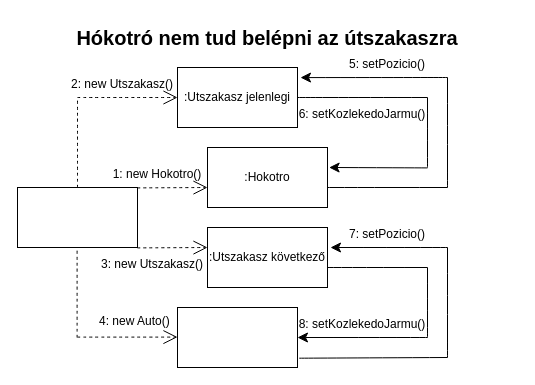
This 535x385 diagram has some shape labels left out. The shapes that lost their labels are listed below. From the top down, each one's centre as x and y in pixels, then its label:
At pixel 77 217: ": Skeleton".
At pixel 237 337: ":Auto".
